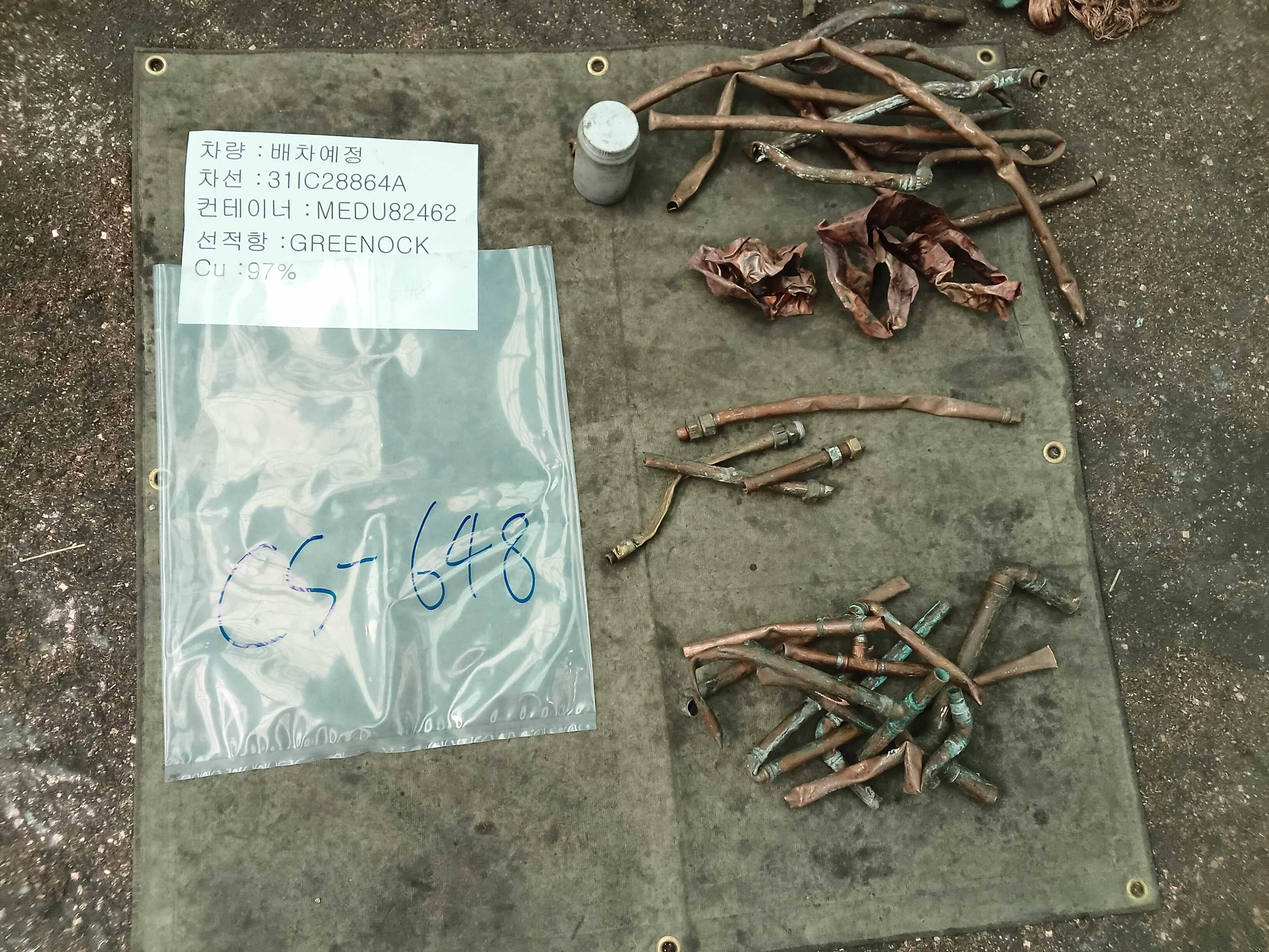Brass_Attach_70: (746, 67, 1050, 192), (676, 393, 1021, 444), (642, 452, 838, 506), (741, 435, 875, 495)
Copper_Elbows_92: (682, 616, 886, 659), (921, 687, 974, 791)
Copper_Plates_93: (816, 191, 1023, 339), (689, 237, 817, 321)
